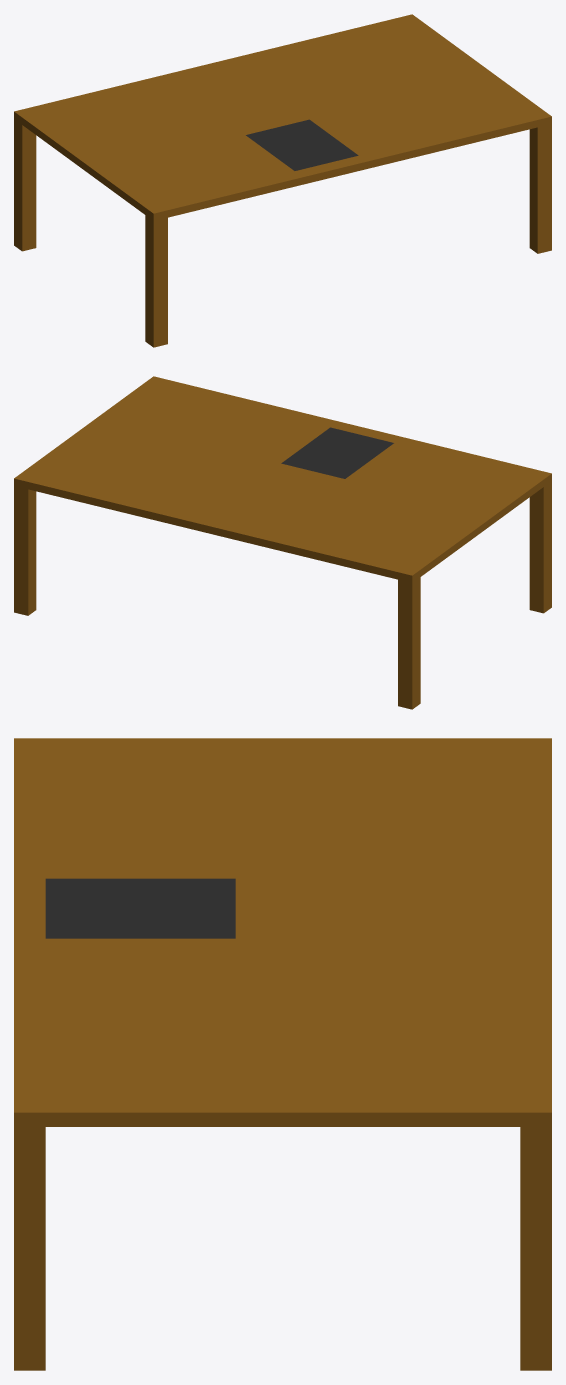
Rendered from Table For PC-0-Table.obj.
3 views of the same model, one above another, from view 1: azimuth 30°, elevation 25°; view 2: azimuth 150°, elevation 25°; view 3: azimuth 270°, elevation 25° (orthographic). The views are drawn at different scales.
Parts seen in each view (by area): view 1: Table; view 2: Table; view 3: Table.
Part boxes in pixels (x1=…): Table: x1=14, y1=14, x2=551, y2=347; Table: x1=14, y1=376, x2=551, y2=709; Table: x1=14, y1=738, x2=551, y2=1370.
Size of the model in its own units: 5.6 by 1.8 by 3.4.
Materials: 1 (1 with a texture image).
